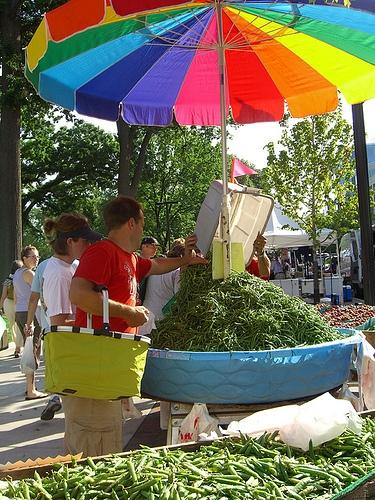green bean: (292, 467, 340, 487), (245, 460, 274, 482), (126, 478, 162, 494), (230, 462, 262, 480), (104, 472, 128, 492), (334, 465, 360, 482), (291, 478, 316, 494), (251, 458, 272, 477), (213, 470, 251, 478), (140, 466, 170, 476), (126, 460, 138, 484), (58, 476, 82, 488), (142, 452, 170, 462), (251, 489, 276, 500), (211, 478, 245, 486), (184, 462, 209, 471), (236, 440, 252, 454), (234, 312, 250, 326), (140, 460, 154, 476), (72, 468, 91, 478), (150, 475, 160, 494), (287, 469, 310, 477), (26, 484, 41, 496), (51, 463, 70, 472), (252, 444, 264, 458), (224, 447, 236, 461), (259, 448, 280, 456), (137, 456, 148, 471), (175, 474, 202, 480), (272, 479, 294, 486), (186, 275, 197, 289), (185, 452, 202, 461), (141, 491, 158, 500), (328, 470, 343, 480), (63, 479, 70, 500), (207, 476, 243, 480), (360, 432, 372, 444), (212, 484, 225, 495), (318, 455, 328, 469), (183, 493, 202, 500), (88, 484, 110, 490), (233, 339, 245, 350), (169, 484, 177, 500), (208, 320, 215, 338), (102, 490, 123, 496), (331, 445, 356, 450), (222, 338, 231, 351), (162, 486, 170, 500), (297, 320, 308, 330), (228, 465, 238, 476), (80, 489, 90, 500), (274, 455, 280, 472), (230, 491, 241, 500), (250, 334, 256, 350), (170, 322, 182, 330), (322, 450, 334, 458), (97, 480, 116, 485), (365, 417, 375, 426), (348, 458, 363, 464), (97, 460, 108, 468), (205, 466, 219, 472), (245, 476, 254, 485), (286, 442, 291, 458), (344, 441, 360, 446), (116, 464, 128, 470), (300, 476, 318, 480), (211, 450, 223, 456), (160, 478, 178, 482), (86, 469, 96, 476), (69, 472, 80, 478), (202, 480, 218, 484), (65, 464, 69, 480), (280, 461, 300, 464), (96, 473, 108, 478), (206, 264, 212, 274), (57, 472, 64, 480), (293, 457, 307, 461), (107, 468, 120, 472), (42, 479, 52, 484), (367, 437, 375, 443), (252, 306, 260, 312), (313, 486, 321, 492), (14, 487, 22, 493), (52, 470, 56, 482), (265, 433, 271, 441), (201, 476, 209, 482), (234, 444, 244, 448), (220, 454, 225, 462), (280, 328, 290, 332), (193, 457, 202, 461), (202, 340, 208, 346), (160, 336, 166, 342), (128, 456, 134, 462), (314, 480, 331, 482), (352, 470, 360, 474), (362, 460, 366, 468), (156, 464, 164, 468), (8, 476, 12, 484), (348, 450, 356, 454), (272, 486, 276, 494), (253, 288, 258, 294), (19, 492, 24, 498), (2, 488, 9, 492), (88, 465, 92, 472), (239, 306, 244, 311), (80, 481, 85, 486), (182, 338, 186, 344), (168, 470, 170, 482), (246, 434, 250, 440), (284, 342, 292, 345), (216, 320, 227, 322), (197, 264, 200, 271), (269, 305, 273, 310), (224, 288, 234, 290), (181, 325, 191, 327), (296, 340, 301, 344), (42, 486, 47, 490), (245, 272, 251, 275), (272, 294, 276, 298), (318, 337, 322, 341), (171, 468, 174, 473), (263, 341, 265, 348), (260, 451, 264, 454), (235, 304, 238, 308), (285, 306, 289, 308), (132, 460, 136, 462), (264, 326, 268, 328), (324, 324, 326, 326), (224, 306, 225, 310), (339, 336, 343, 337), (184, 306, 186, 308), (206, 286, 209, 286)
